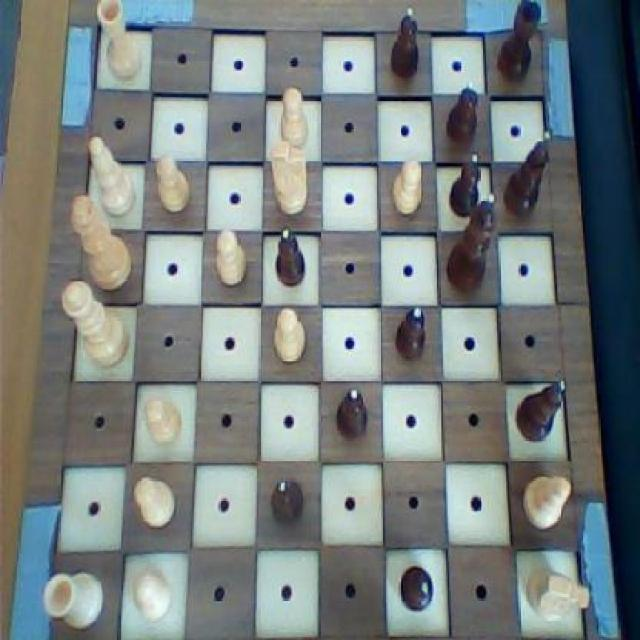bishop: (501, 128, 557, 227), (511, 374, 571, 443)
black-bishop: (444, 191, 500, 298)
black-knight: (386, 2, 424, 83), (442, 79, 482, 153), (444, 151, 484, 220), (269, 222, 309, 288), (331, 386, 374, 445), (392, 298, 430, 362), (395, 560, 437, 616), (266, 475, 306, 528)
black-queen: (495, 0, 543, 88)
black-rook: (86, 132, 138, 218), (519, 468, 576, 533)
white-bishop: (66, 190, 135, 292)
white-king: (520, 560, 594, 629), (266, 136, 313, 220)
white-knight: (383, 153, 429, 224), (150, 148, 194, 220), (129, 472, 177, 534), (269, 303, 311, 371), (140, 390, 184, 452), (274, 81, 313, 150), (209, 224, 251, 288), (128, 565, 174, 619)
white-pawn: (58, 276, 130, 372)
white-queen: (91, 0, 146, 83), (40, 562, 106, 630)
